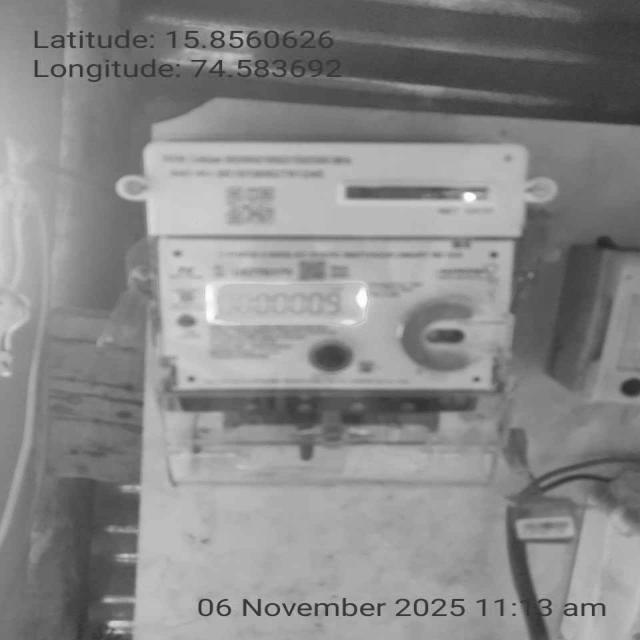meter: (138, 140, 523, 392)
